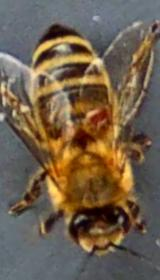varroa_mite: (80, 110, 118, 136)
